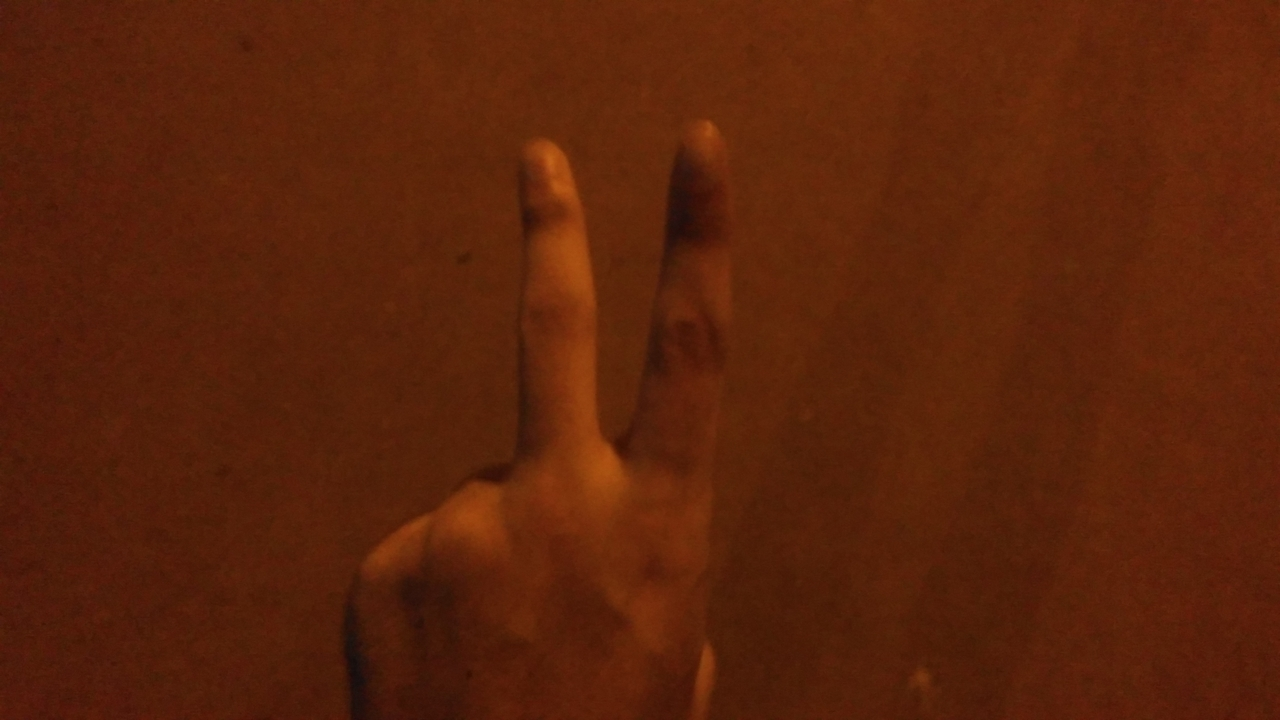fingertip: (512, 132, 580, 184), (674, 110, 736, 160)
